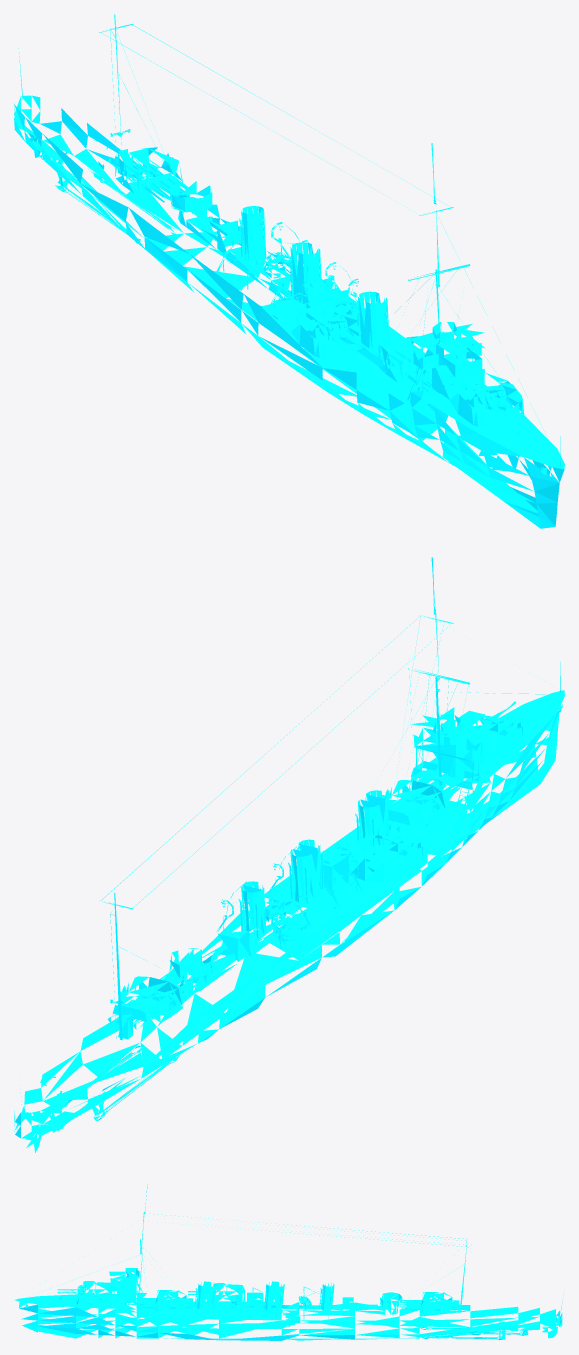
The model's file is Kagero.glb.
3 renders of one model, top to bottom at view 1: azimuth 30°, elevation 25°; view 2: azimuth 150°, elevation 25°; view 3: azimuth 270°, elevation 25°, orthographic. The views are drawn at different scales.
Size of the model in its own units: 0.5627 by 1.73 by 5.59.
